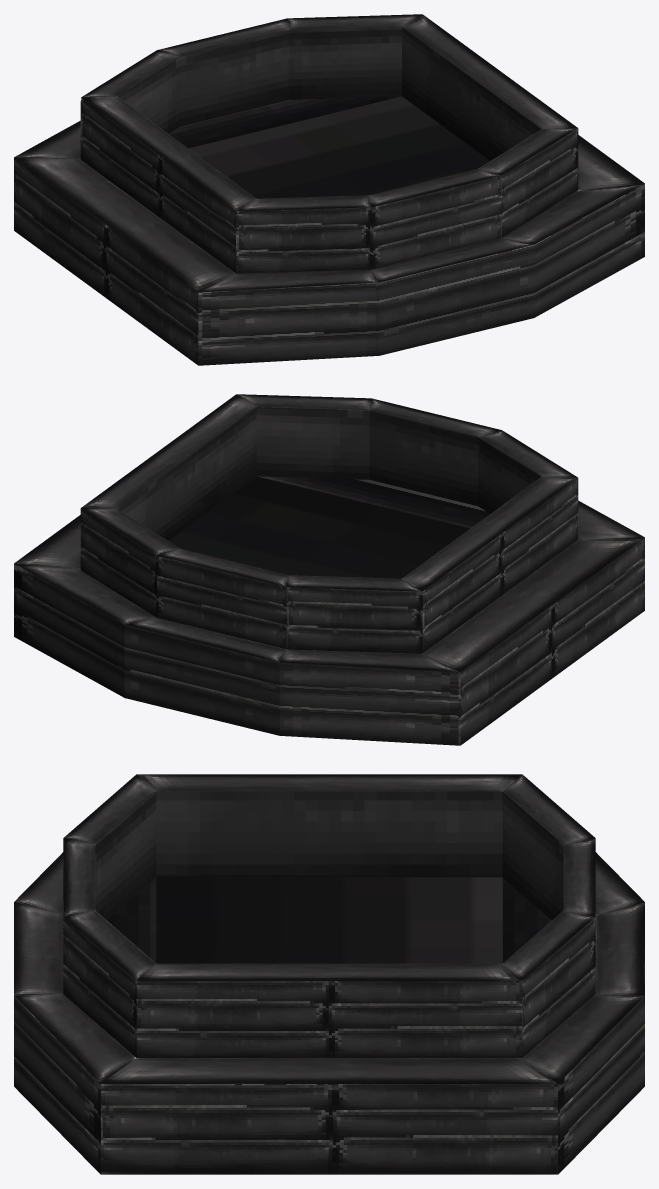
File: planterSeatsLarge.fbx
3 renders of one model, top to bottom at view 1: azimuth 30°, elevation 25°; view 2: azimuth 150°, elevation 25°; view 3: azimuth 270°, elevation 25°, orthographic. The views are drawn at different scales.
Parts seen in each view (by area): view 1: PlanterV3; view 2: PlanterV3; view 3: PlanterV3.
Boxes of the visible parts, x1,y1,x2,y2 form: PlanterV3: [14, 14, 644, 365]; PlanterV3: [14, 394, 644, 745]; PlanterV3: [14, 774, 644, 1174].
Size of the model in its own units: 287 by 80.52 by 284.
